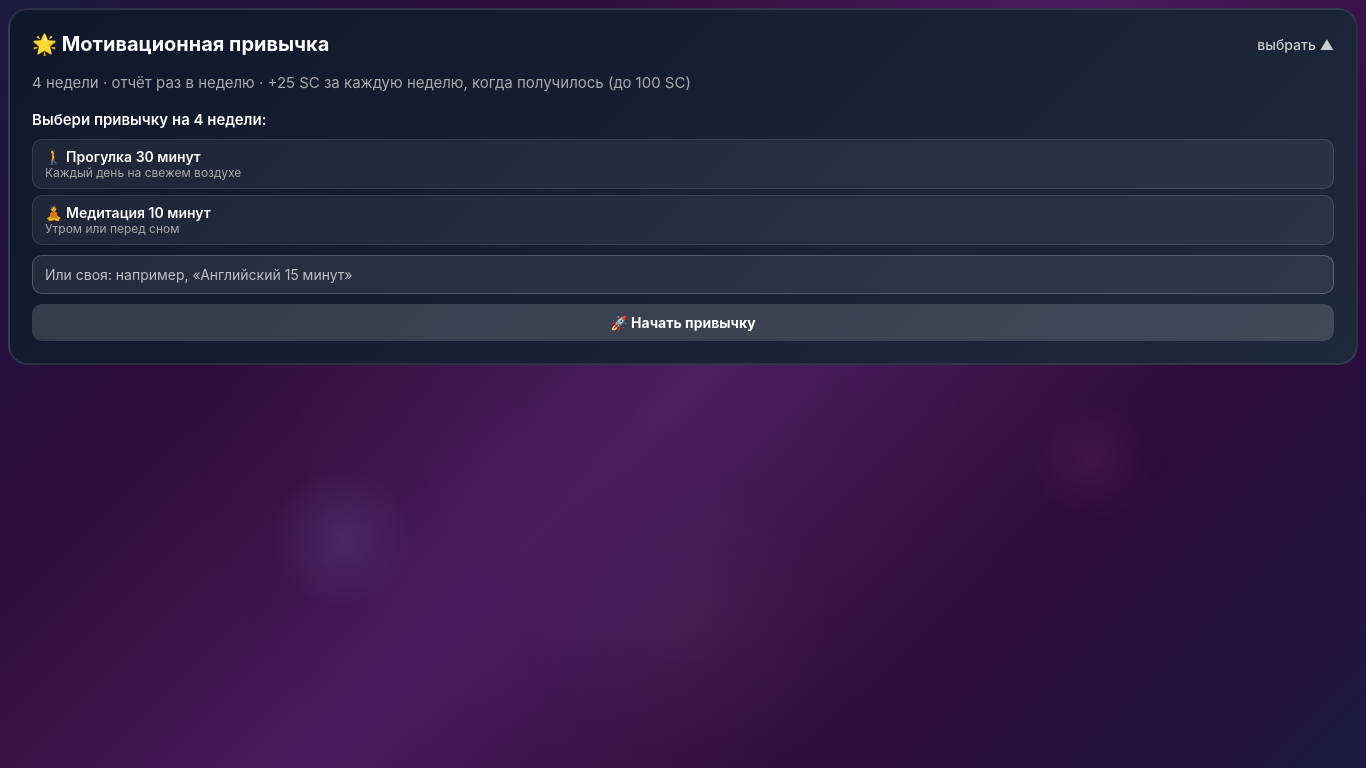
Test: своя привычка короче 2 символов не отправляется, ошибка сервера показывается
In the field with placeholder "Или своя: например, «Английский 15 минут»": (683, 274) left=32, top=255, right=1334, bottom=294, type "я"
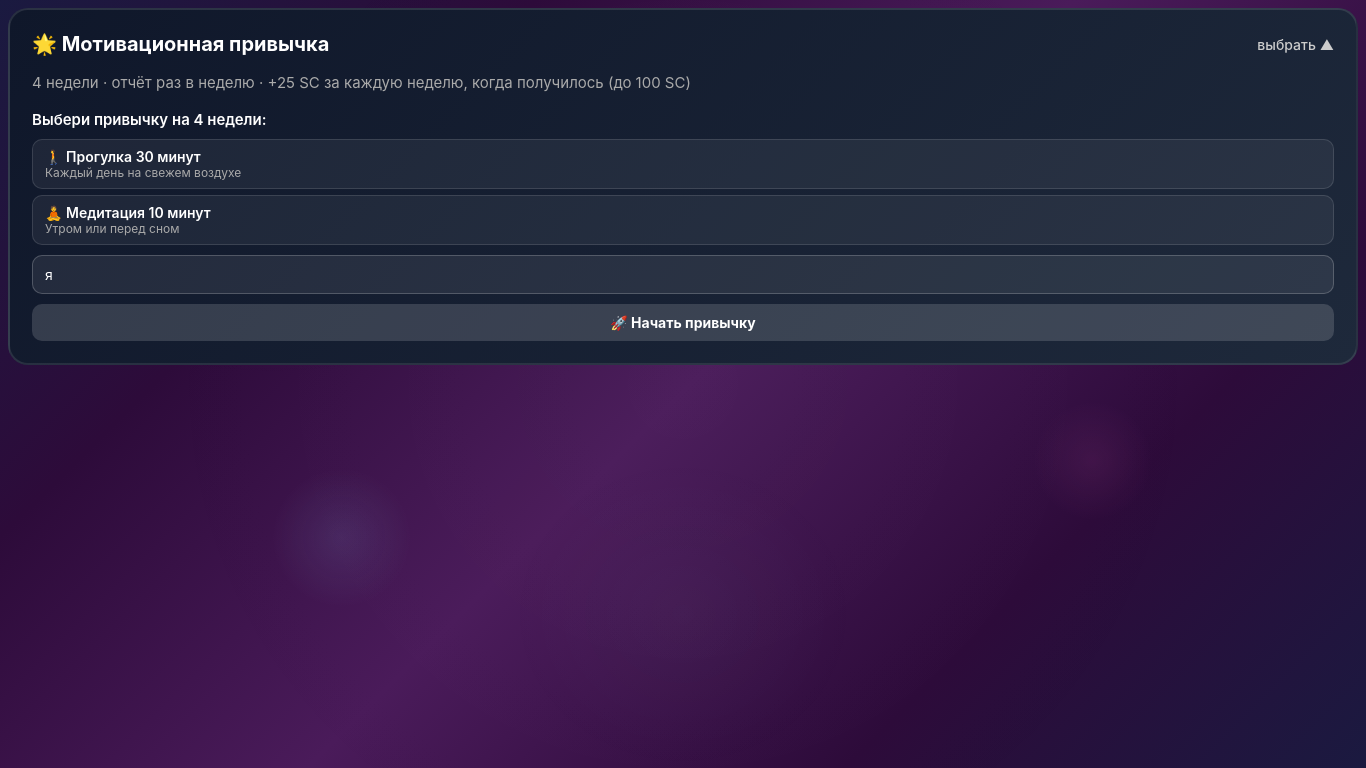
expect the button "🚀 Начать привычку" is disabled: met, box left=32, top=304, right=1334, bottom=341
Replace the text in the field with placeholder "Или своя: например, «Английский 15 минут»" with "Английский 15 минут": (683, 274) left=32, top=255, right=1334, bottom=294
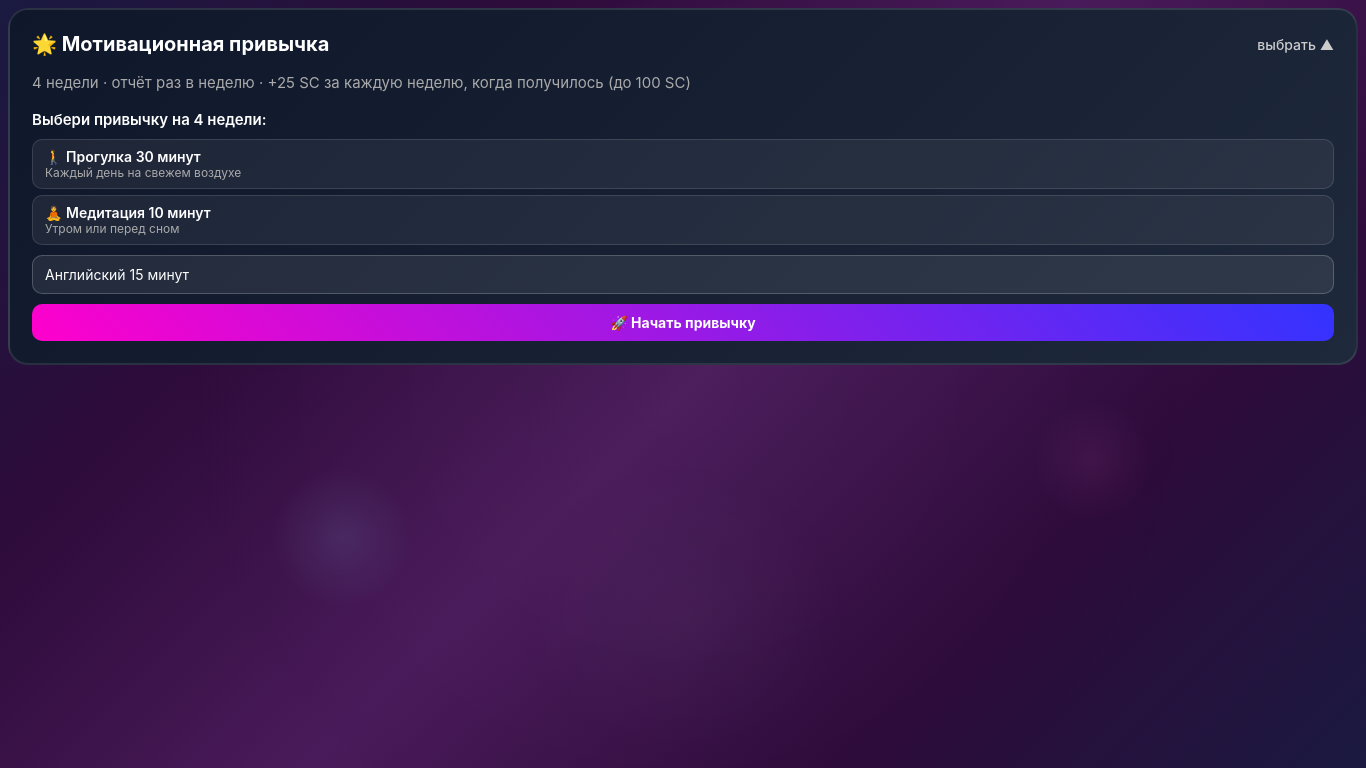
Click the button "🚀 Начать привычку": (683, 322) left=32, top=304, right=1334, bottom=341
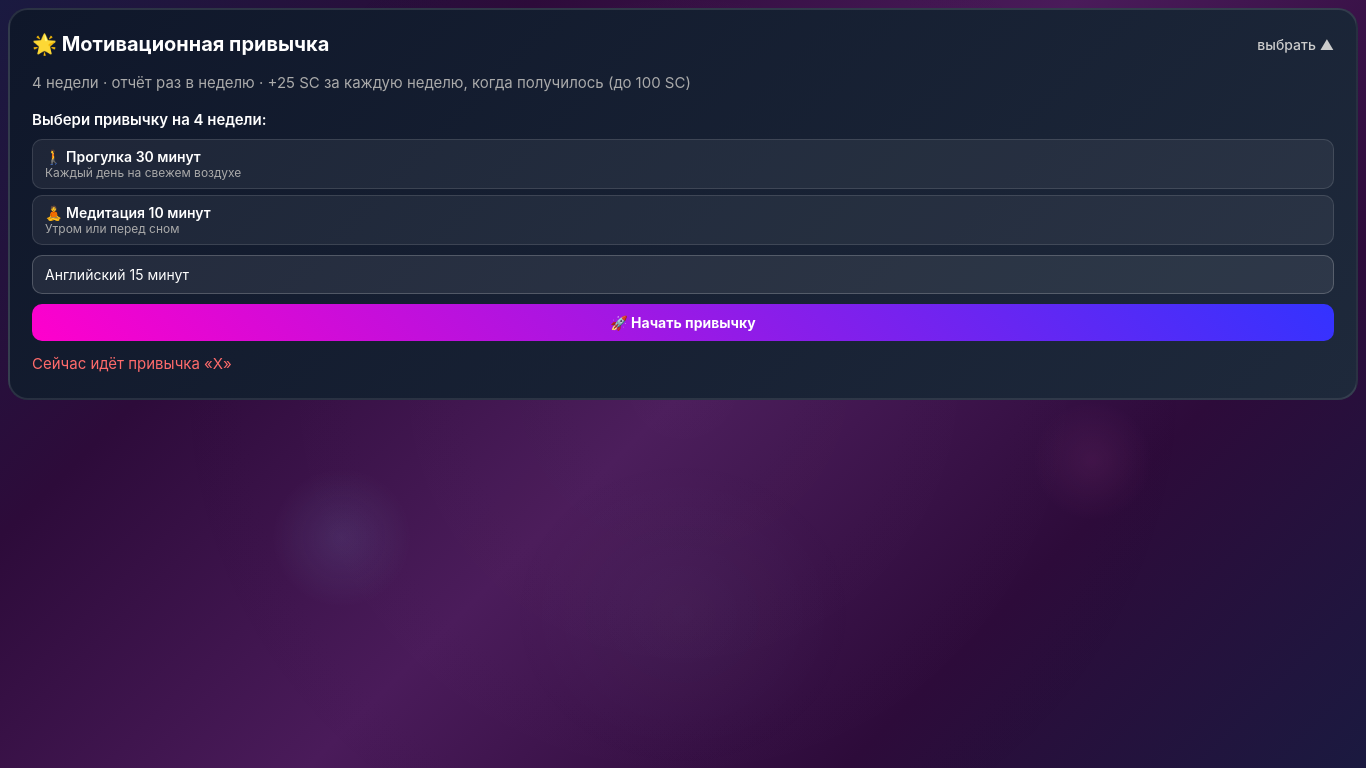
expect the text "Сейчас идёт привычка «X»" is shown: met, box left=32, top=354, right=232, bottom=373
